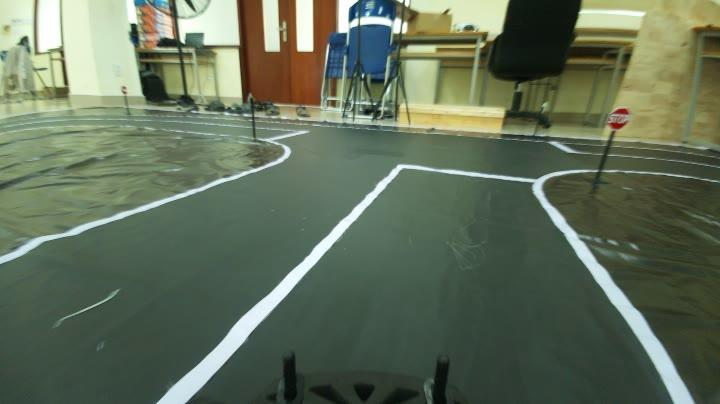stop: (604, 104, 634, 138)
